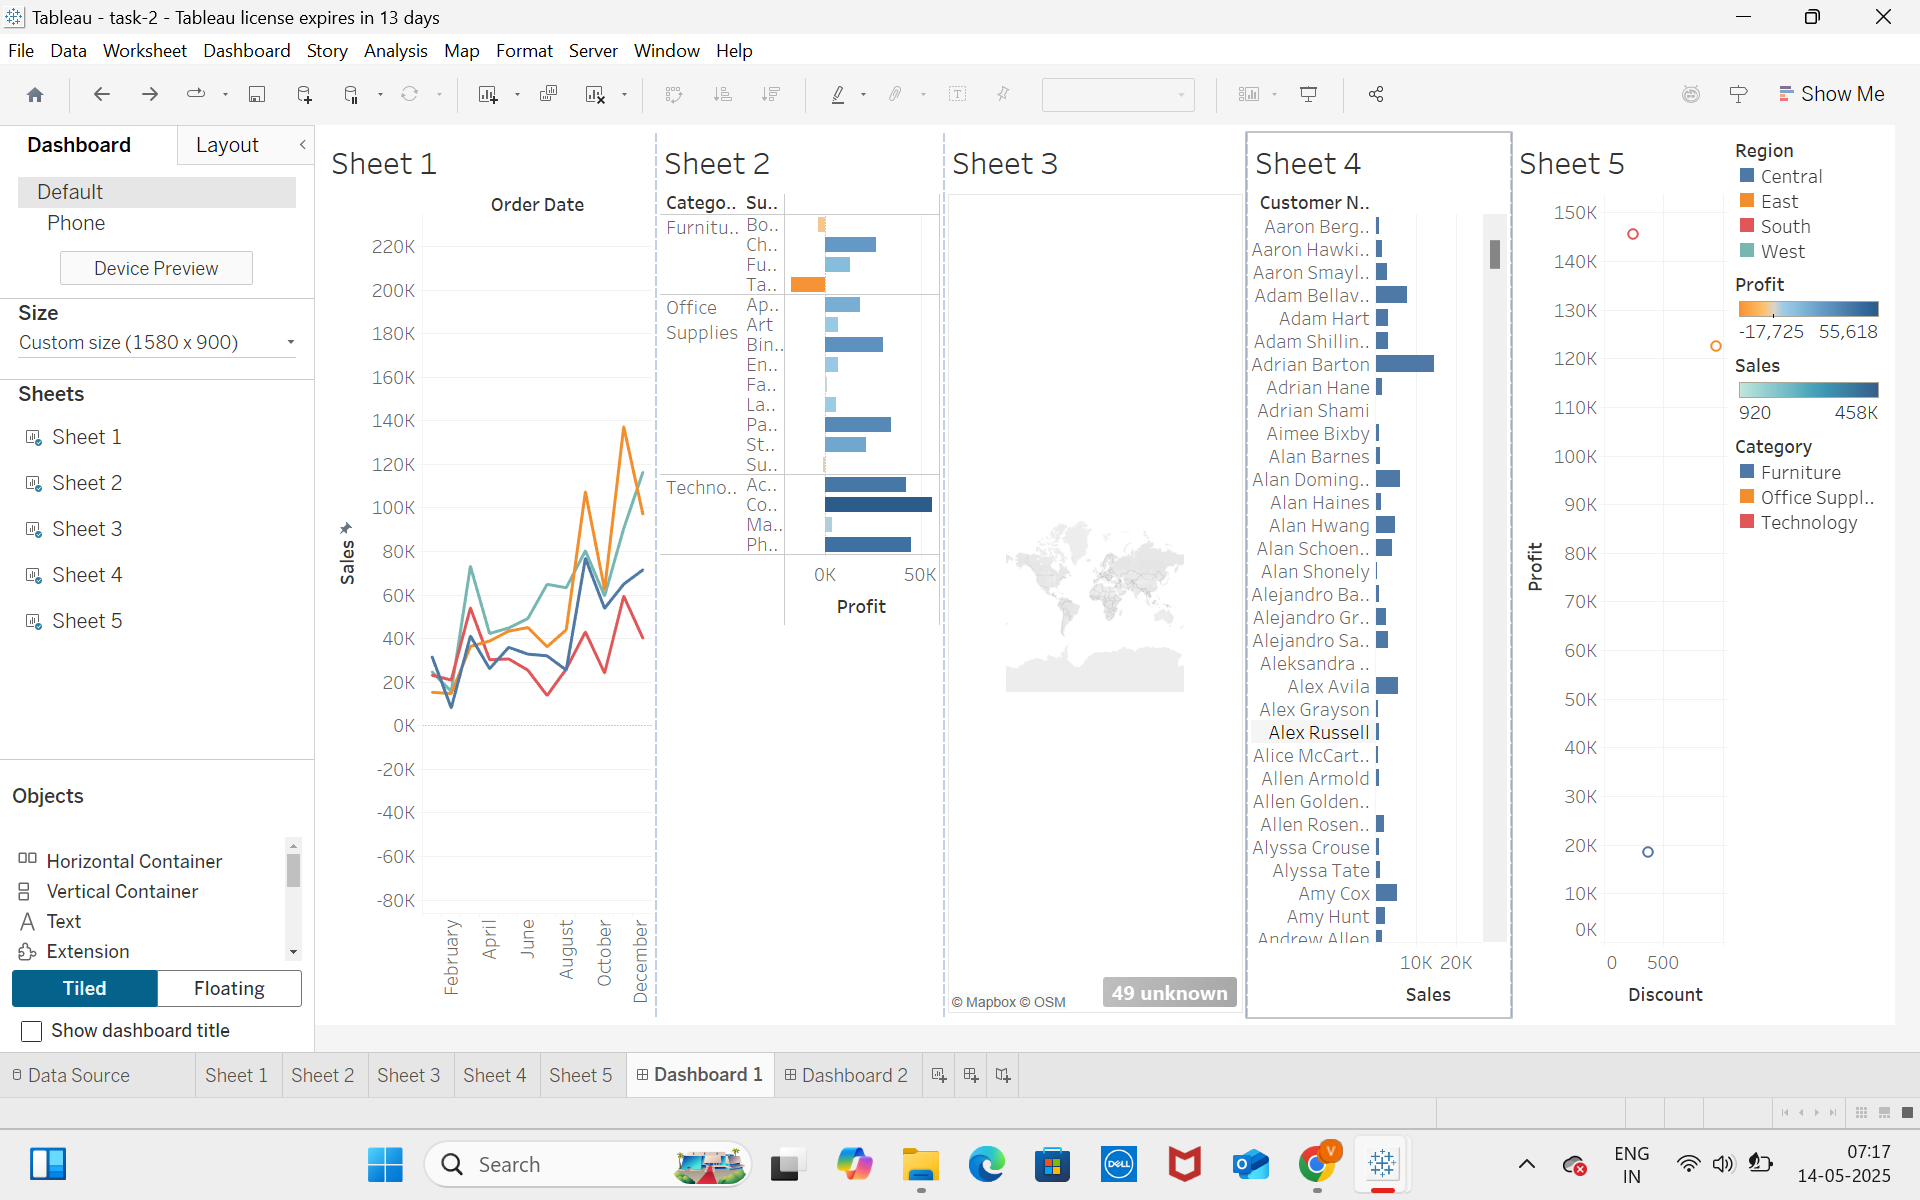

What the dashboard file says about the page in this screenshot:
{"tool":"tableau","page":{"name":"Dashboard 1","canvas":[1580,800],"ordinal":0},"visuals":[{"type":"worksheet","title":"Sheet 1","mark":"Automatic","rows":["Sales"],"cols":["Order Date"],"box":[8,8,332.6,784]},{"type":"worksheet","title":"Sheet 2","mark":"Automatic","rows":["Category","Sub-Category"],"cols":["Profit"],"box":[340.6,8,288.8,784]},{"type":"worksheet","title":"Sheet 3","mark":"Automatic","box":[629.4,8,302.6,784]},{"type":"worksheet","title":"Sheet 4","mark":"Automatic","rows":["Customer Name"],"cols":["Sales"],"box":[932,8,264,784]},{"type":"worksheet","title":"Sheet 5","mark":"Automatic","rows":["Profit"],"cols":["Discount"],"box":[1196,8,220,784]},{"type":"legend","title":"Sheet 1","param":"[federated.09fl6pa12m9zke1elucv80fftgyw].[none:Region:nk]","box":[1416,8,156,134]},{"type":"legend","title":"Sheet 2","param":"[federated.09fl6pa12m9zke1elucv80fftgyw].[sum:Profit:qk]","box":[1416,142,156,81]},{"type":"legend","title":"Sheet 3","param":"[federated.09fl6pa12m9zke1elucv80fftgyw].[sum:Sales:qk]","box":[1416,223,156,81]},{"type":"legend","title":"Sheet 5","param":"[federated.09fl6pa12m9zke1elucv80fftgyw].[none:Category:nk]","box":[1416,304,156,109]}]}

Visuals, with their boxes on the page's 1580x800 design canvas (x1, y1, x2, y2). These are canvas units, not pixel positions in the 1920x1200 screenshot, which may show the page scaled, cropped or inside an application window:
"Sheet 1" worksheet: pyautogui.locateOnScreen(8, 8, 341, 792)
"Sheet 2" worksheet: pyautogui.locateOnScreen(341, 8, 629, 792)
"Sheet 3" worksheet: pyautogui.locateOnScreen(629, 8, 932, 792)
"Sheet 4" worksheet: pyautogui.locateOnScreen(932, 8, 1196, 792)
"Sheet 5" worksheet: pyautogui.locateOnScreen(1196, 8, 1416, 792)
"Sheet 1" legend: pyautogui.locateOnScreen(1416, 8, 1572, 142)
"Sheet 2" legend: pyautogui.locateOnScreen(1416, 142, 1572, 223)
"Sheet 3" legend: pyautogui.locateOnScreen(1416, 223, 1572, 304)
"Sheet 5" legend: pyautogui.locateOnScreen(1416, 304, 1572, 413)
